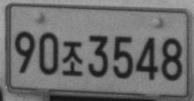0: (37, 31, 59, 75)
3: (87, 35, 109, 78)
4: (134, 37, 158, 80)
5: (112, 35, 134, 79)
8: (160, 36, 183, 81)
9: (14, 30, 35, 73)
조: (61, 39, 83, 76)
